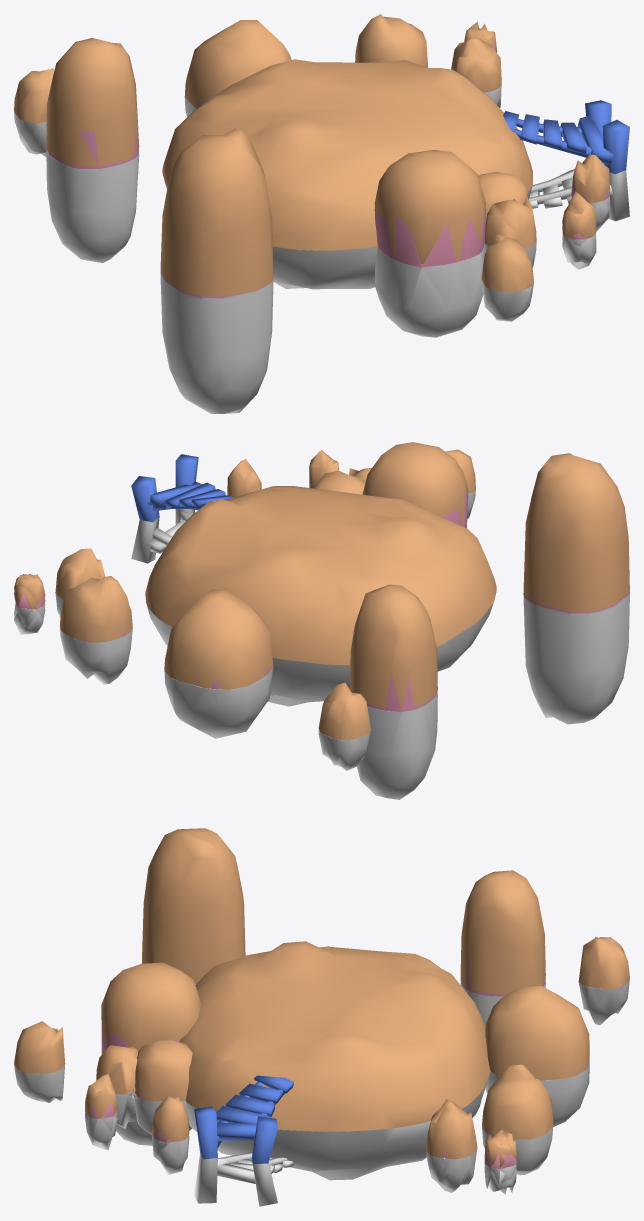
The model's file is TowerIsland.fbx.
The picture shows the model from 3 angles, top to bottom: view 1: azimuth 30°, elevation 25°; view 2: azimuth 150°, elevation 25°; view 3: azimuth 270°, elevation 25°; orthographic projection. The views are drawn at different scales.
Visible parts, largest first — view 1: IslandGrass; view 2: IslandGrass; view 3: IslandGrass.
Boxes of the visible parts, x1,y1,x2,y2 form: IslandGrass: (14, 14, 629, 413); IslandGrass: (14, 442, 629, 799); IslandGrass: (14, 828, 629, 1206).
Size of the model in its own units: 676 by 370 by 770.
